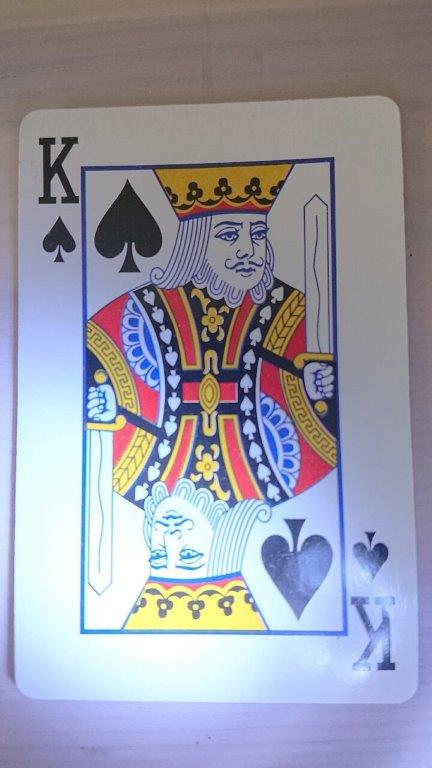KS: (11, 94, 421, 706)
